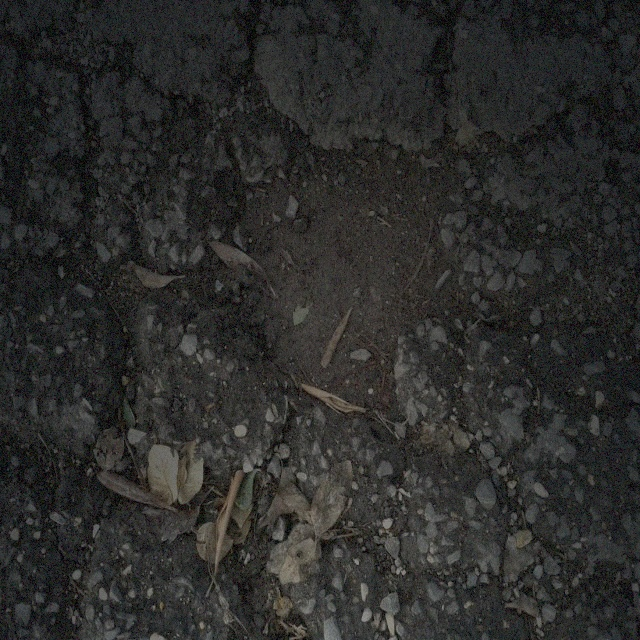pothole: (182, 87, 520, 434)
